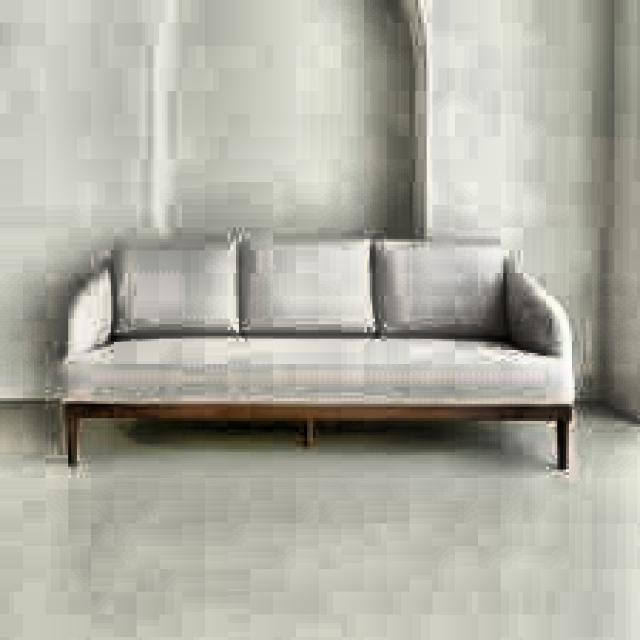sofa: (51, 244, 589, 480)
